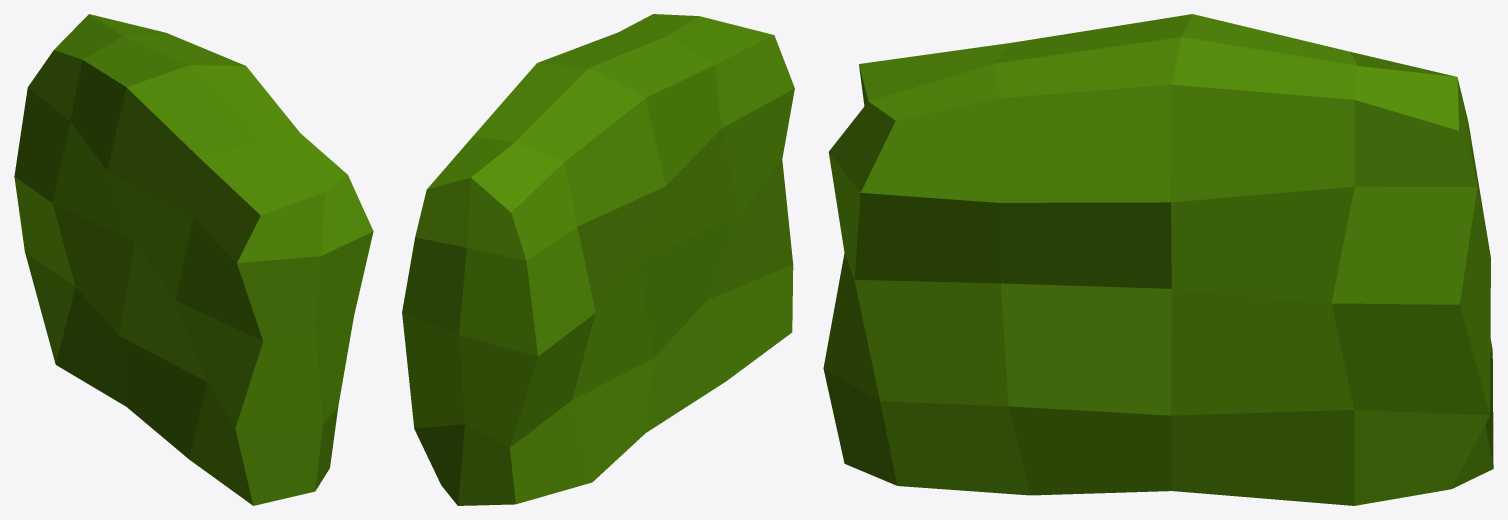
Rendered from MazeWall_01.fbx.
3 renders of one model, left to right at view 1: azimuth 30°, elevation 25°; view 2: azimuth 150°, elevation 25°; view 3: azimuth 270°, elevation 25°, orthographic. The views are drawn at different scales.
Visible parts, largest first — view 1: maze_2; view 2: maze_2; view 3: maze_2.
Boxes of the visible parts, box(x1,y1,x2,y2) form: maze_2: box(14, 14, 373, 505); maze_2: box(402, 14, 794, 505); maze_2: box(823, 14, 1493, 505).
Size of the model in its own units: 2.78 by 5.63 by 7.97.
